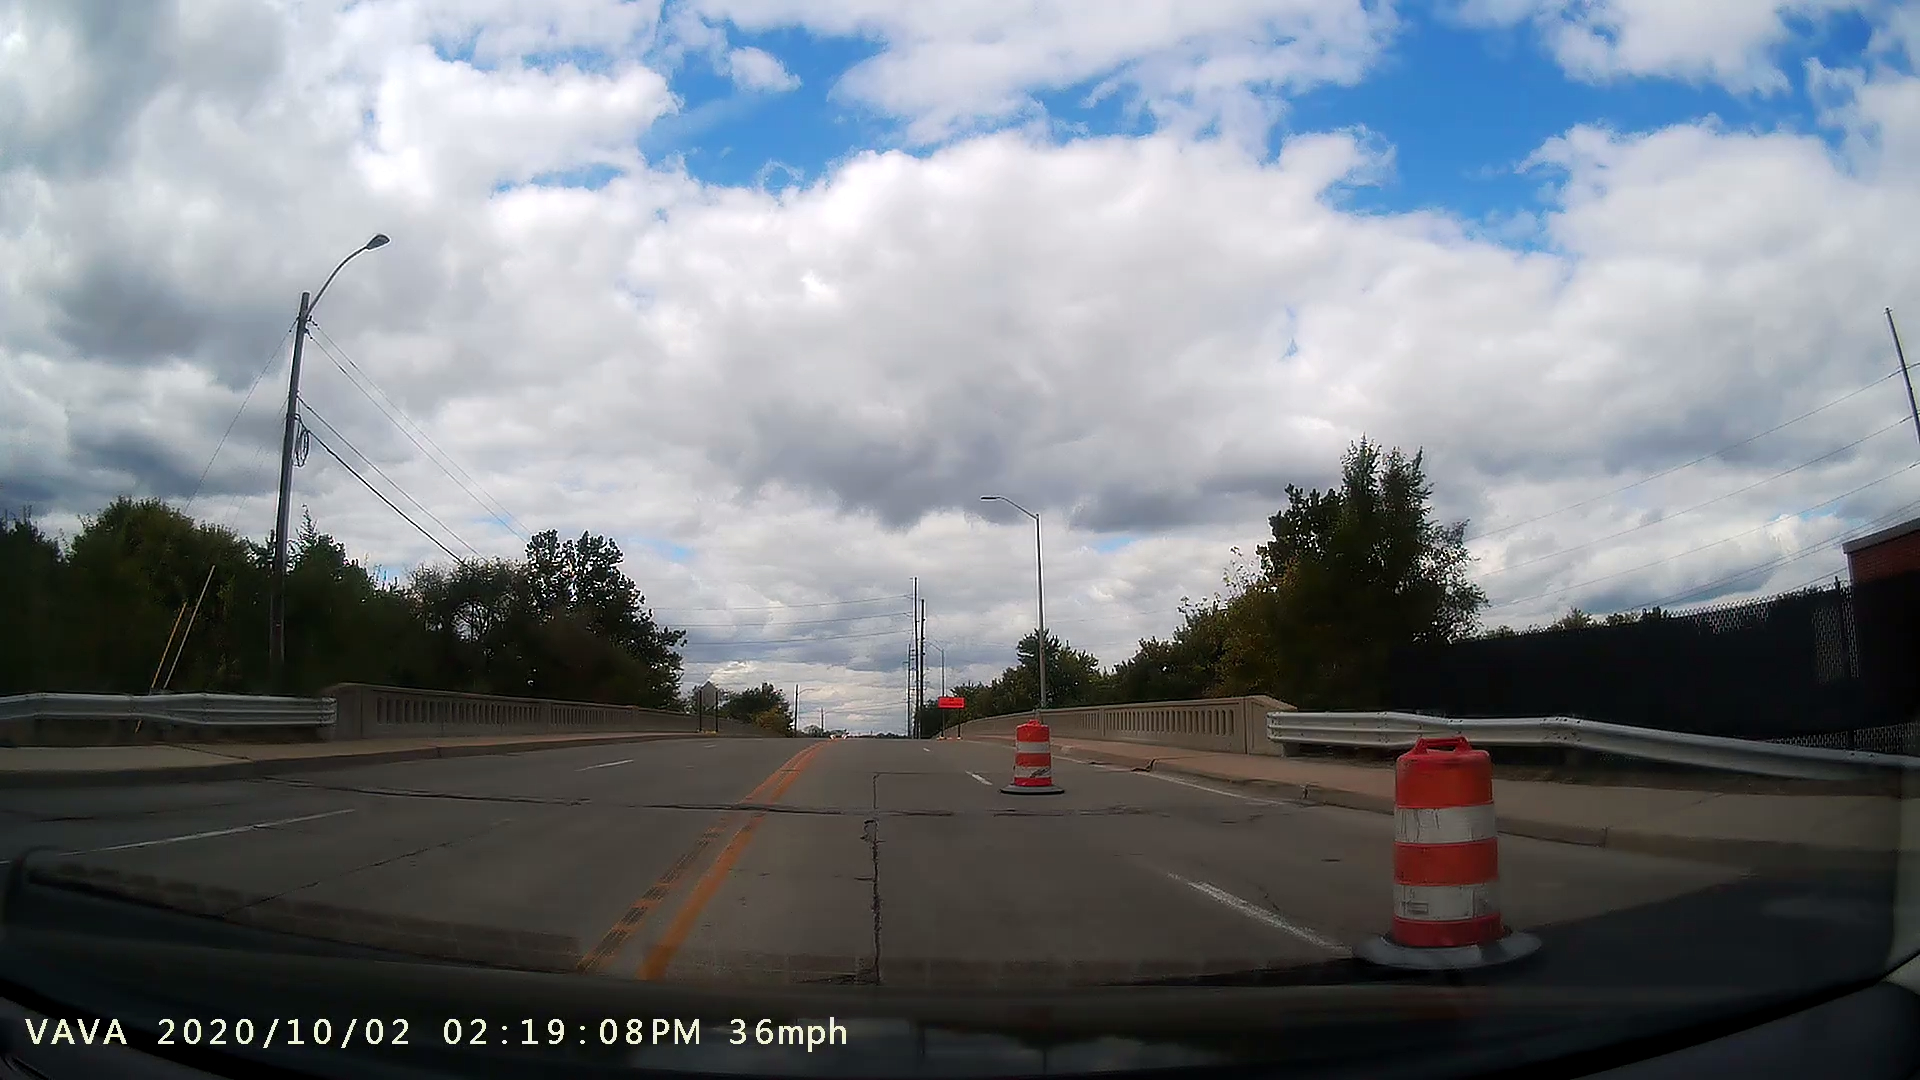const_barrel: (1329, 713, 1553, 978), (994, 712, 1065, 802)
